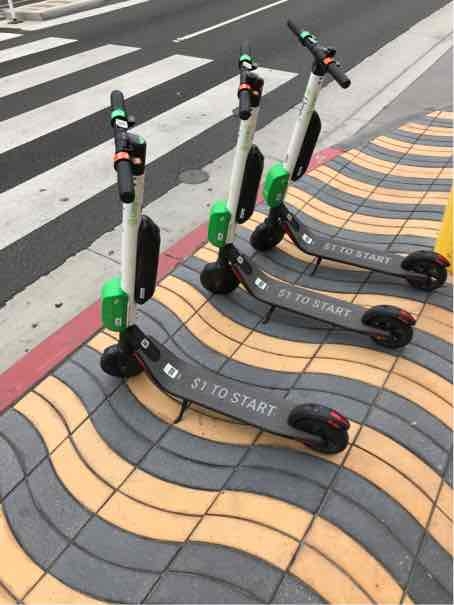scooter: (76, 87, 350, 464), (201, 34, 434, 340), (256, 24, 449, 291)
